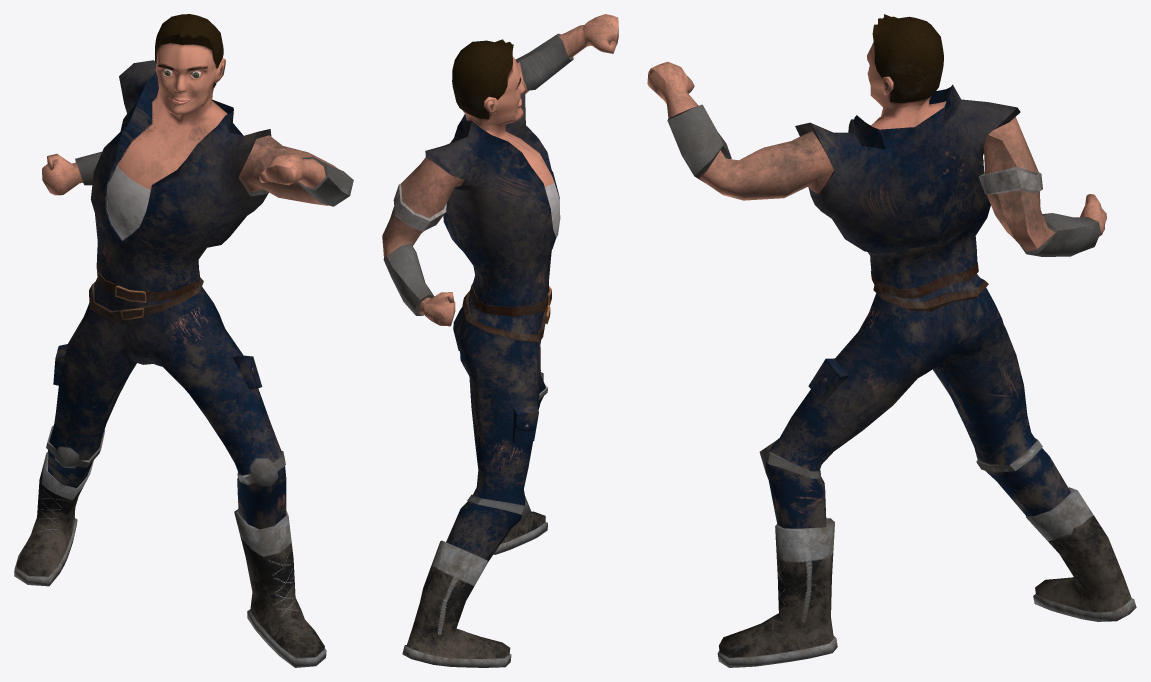
Rendered from Anim_especial_jugador.0024.obj.
3 renders of one model, left to right at view 1: azimuth 30°, elevation 25°; view 2: azimuth 150°, elevation 25°; view 3: azimuth 270°, elevation 25°, orthographic. The views are drawn at different scales.
Parts seen in each view (by area): view 1: polySurface1; view 2: polySurface1; view 3: polySurface1.
Part boxes in pixels (bbox=[...]): polySurface1: bbox=[14, 14, 353, 667]; polySurface1: bbox=[382, 14, 618, 667]; polySurface1: bbox=[647, 14, 1136, 667].
Bounding box in the file's own units: 2.83 × 9.15 × 6.5.
